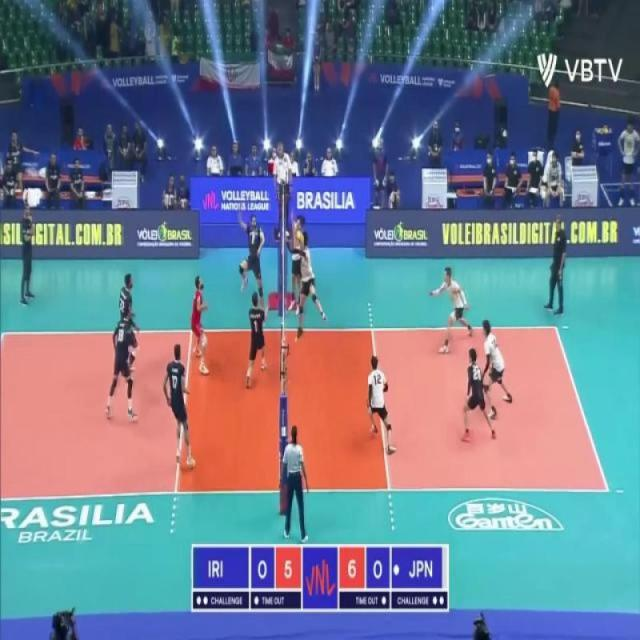volleyball: (295, 230, 304, 247)
